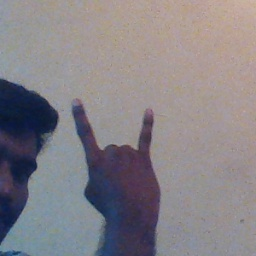V: (65, 91, 174, 218)
